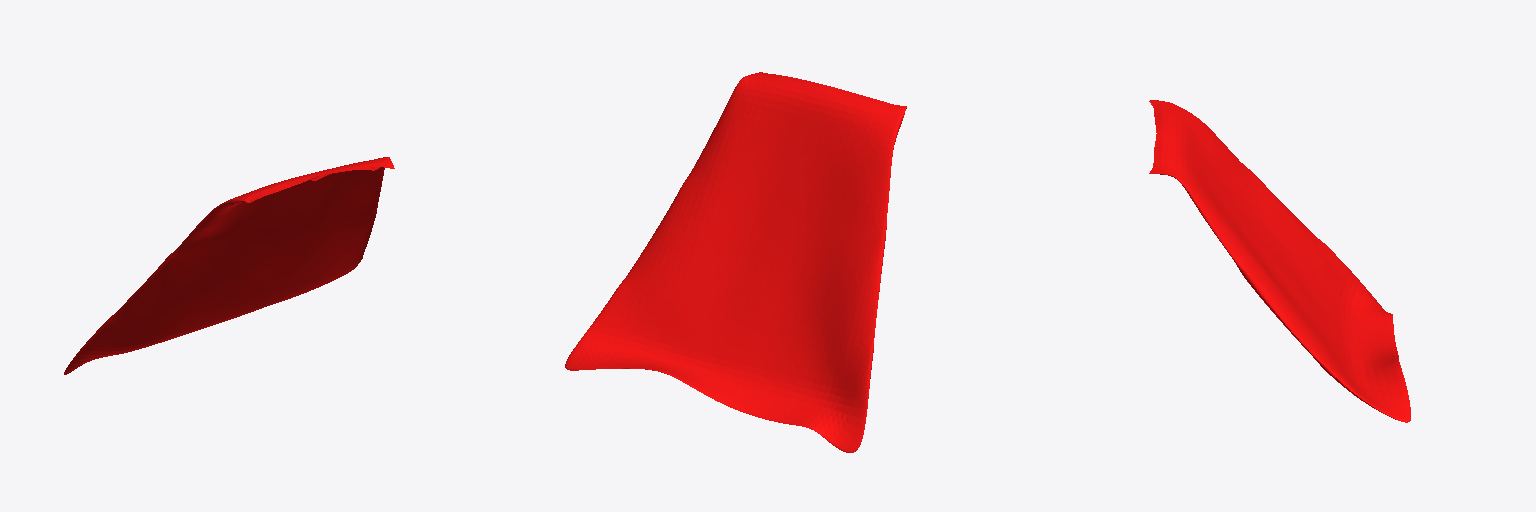
Rendered from Capa01.obj.
3 renders of one model, left to right at view 1: azimuth 30°, elevation 25°; view 2: azimuth 150°, elevation 25°; view 3: azimuth 270°, elevation 25°, orthographic.
Visible parts, largest first — view 1: Line015; view 2: Line015; view 3: Line015.
Part boxes in pixels (bbox=[...]): Line015: bbox=[64, 157, 394, 374]; Line015: bbox=[565, 72, 906, 452]; Line015: bbox=[1149, 100, 1410, 422].
Size of the model in its own units: 11.43 by 9.59 by 9.16.